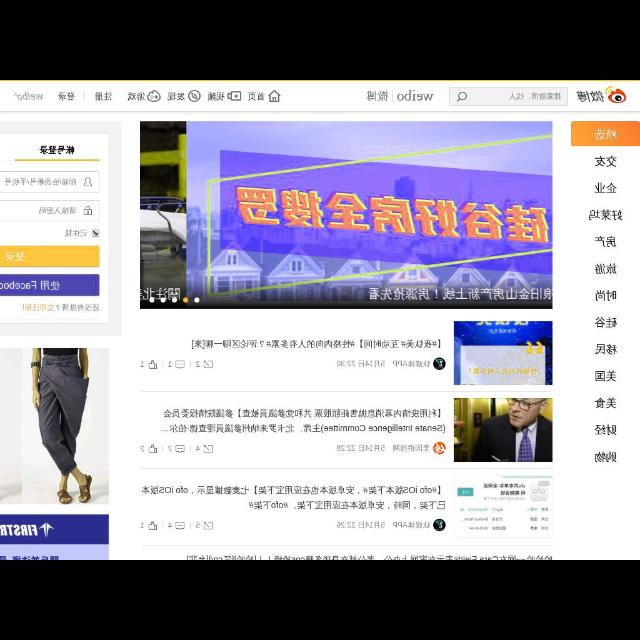checkbox: (92, 230, 100, 237)
icon: (268, 90, 284, 104), (227, 90, 243, 102), (189, 90, 201, 102), (148, 90, 160, 102), (455, 91, 467, 102), (83, 176, 93, 188), (82, 204, 92, 216), (202, 358, 214, 368), (203, 444, 215, 454), (176, 444, 187, 454), (175, 360, 185, 370), (147, 444, 157, 454), (175, 520, 185, 530), (148, 522, 158, 532), (148, 359, 158, 368), (204, 520, 212, 530)
image: (140, 122, 552, 308), (0, 349, 110, 507), (452, 320, 554, 386), (454, 398, 552, 462), (453, 477, 553, 538), (2, 514, 108, 560), (576, 86, 628, 102), (13, 90, 45, 104), (432, 440, 446, 456), (433, 518, 447, 532), (433, 358, 445, 370)
input: (450, 86, 568, 105), (1, 172, 100, 192), (1, 201, 99, 221)
pageindicator: (147, 296, 200, 304)
panel: (1, 133, 108, 323)
text: (141, 483, 447, 512), (162, 406, 442, 419), (190, 338, 442, 352), (158, 422, 446, 434), (368, 288, 552, 302), (180, 555, 554, 559), (1, 176, 79, 188), (1, 279, 63, 293), (21, 302, 101, 312), (508, 91, 564, 102), (587, 208, 623, 222), (336, 360, 386, 370), (335, 520, 385, 530), (38, 142, 78, 154), (336, 444, 384, 454), (396, 90, 434, 102), (392, 442, 432, 453), (36, 205, 78, 215), (591, 262, 619, 276), (392, 520, 431, 530), (594, 234, 618, 250), (392, 358, 430, 368), (593, 154, 619, 168), (593, 290, 619, 304), (593, 343, 619, 355), (594, 424, 620, 436), (5, 248, 27, 262), (594, 129, 618, 141), (594, 181, 618, 193), (594, 316, 618, 328), (594, 369, 618, 381), (596, 451, 618, 464), (62, 228, 90, 238), (594, 398, 616, 410), (368, 89, 390, 101), (126, 90, 148, 102), (168, 91, 188, 102), (207, 91, 225, 103), (248, 92, 266, 102), (58, 91, 76, 101), (94, 93, 116, 101), (194, 360, 202, 368), (194, 444, 202, 452), (168, 360, 175, 368), (140, 360, 146, 368), (138, 446, 146, 452), (195, 521, 201, 529), (139, 521, 145, 529), (168, 446, 175, 452), (167, 522, 173, 528)
textbutton: (570, 120, 640, 146)
toolbar: (1, 82, 639, 110)
